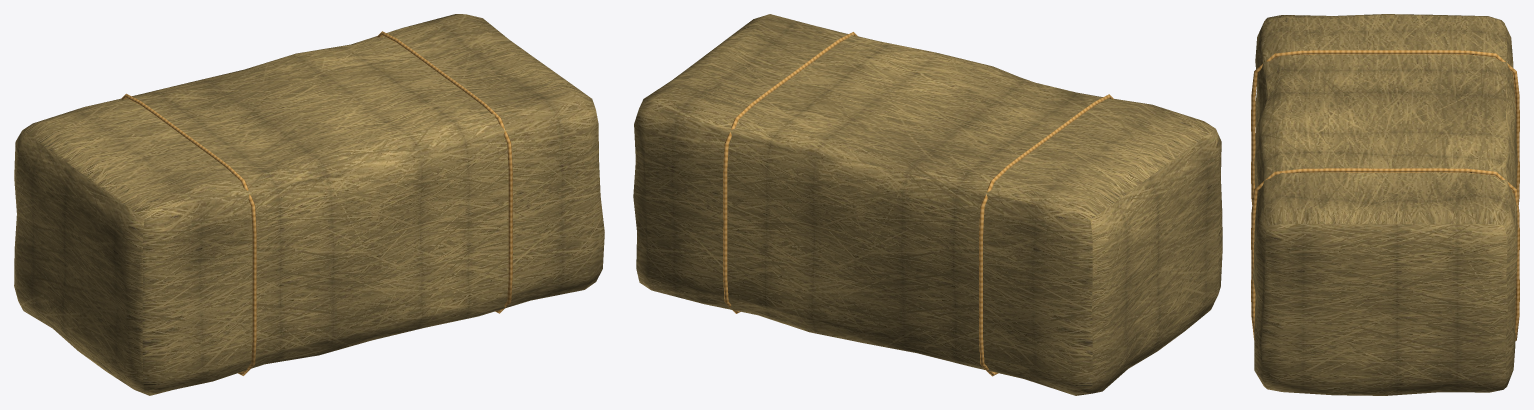
File: hay-bale.glb
3 renders of one model, left to right at view 1: azimuth 30°, elevation 25°; view 2: azimuth 150°, elevation 25°; view 3: azimuth 270°, elevation 25°, orthographic. The views are drawn at different scales.
Parts seen in each view (by area): view 1: hay-bale; view 2: hay-bale; view 3: hay-bale.
Part boxes in pixels (x1,y1,x2,y2): hay-bale: (14, 14, 604, 395); hay-bale: (633, 14, 1222, 395); hay-bale: (1251, 14, 1519, 395).
Size of the model in its own units: 0.935 by 0.3805 by 0.4806.
1 material, 1 textured.
